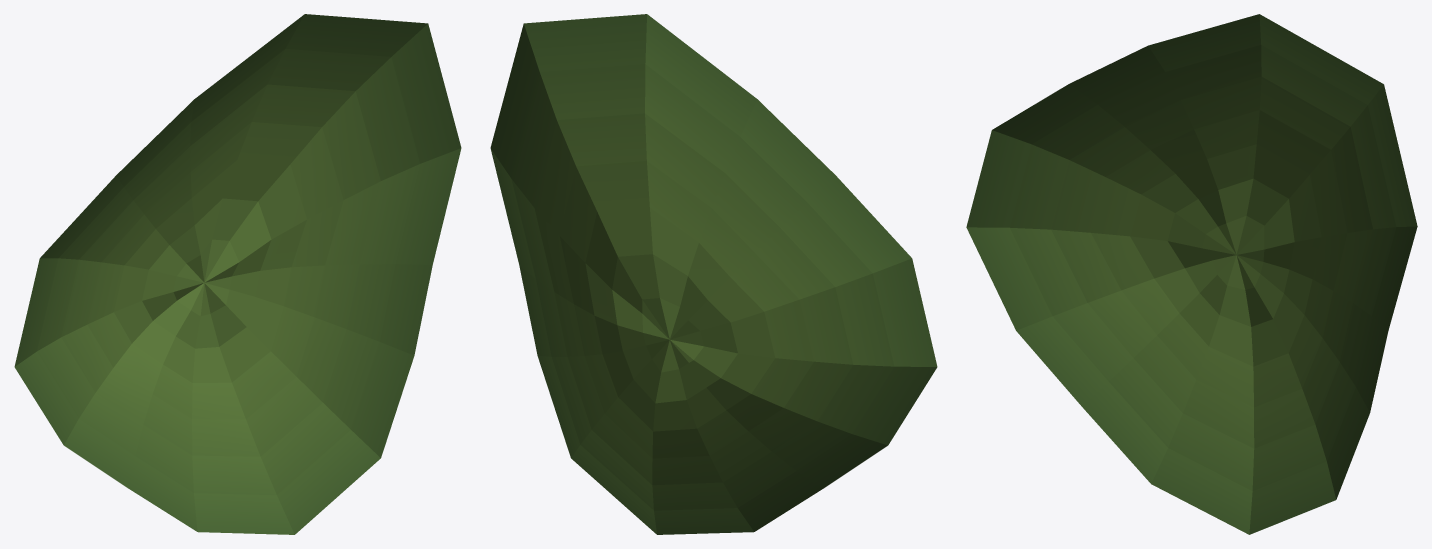
Rendered from hill_a.glb.
3 renders of one model, left to right at view 1: azimuth 30°, elevation 25°; view 2: azimuth 150°, elevation 25°; view 3: azimuth 330°, elevation 25°, orthographic.
Visible parts, largest first — view 1: hill_a; view 2: hill_a; view 3: hill_a.
Part boxes in pixels (<box>): hill_a: <box>14,14,461,534</box>; hill_a: <box>490,14,937,534</box>; hill_a: <box>966,14,1417,534</box>.
Size of the model in its own units: 2.26 by 2.5 by 0.3553.
